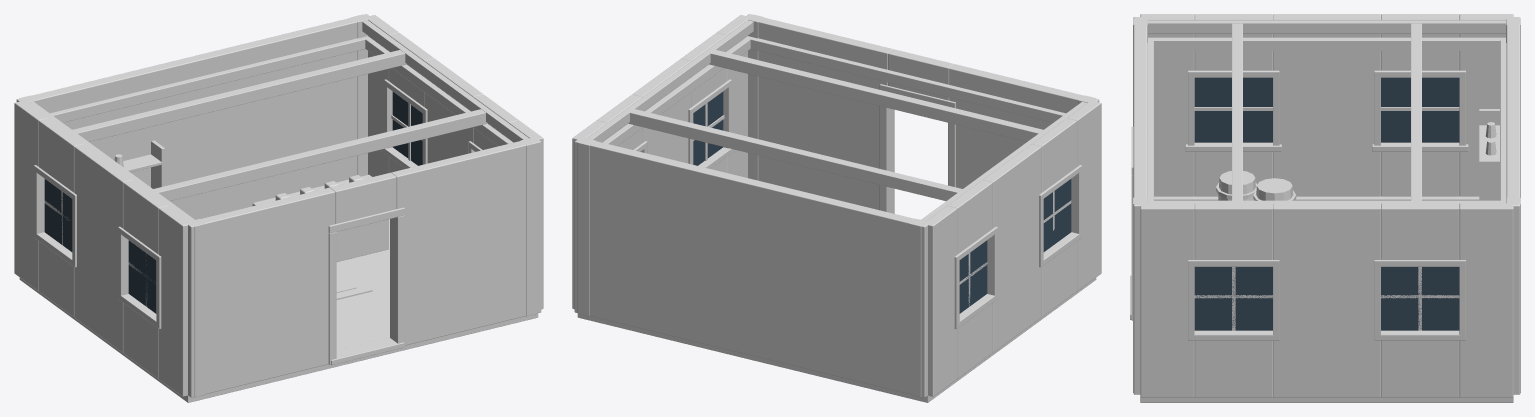
File: interior_shop_a.fbx
3 views of the same model, side by side, from view 1: azimuth 30°, elevation 25°; view 2: azimuth 150°, elevation 25°; view 3: azimuth 270°, elevation 25° (orthographic). The views are drawn at different scales.
Parts seen in each view (by area): view 1: interior_shop_a; view 2: interior_shop_a; view 3: interior_shop_a.
Boxes of the visible parts, box(x1,y1,x2,y2) form: interior_shop_a: box(14, 14, 543, 402); interior_shop_a: box(572, 14, 1101, 402); interior_shop_a: box(1130, 14, 1520, 402).
Bounding box in the file's own units: 625 × 292 × 524.
